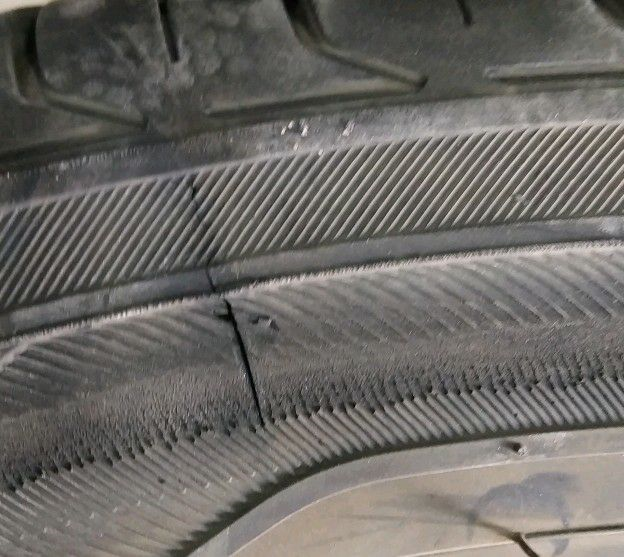cut: (209, 298, 265, 429)
